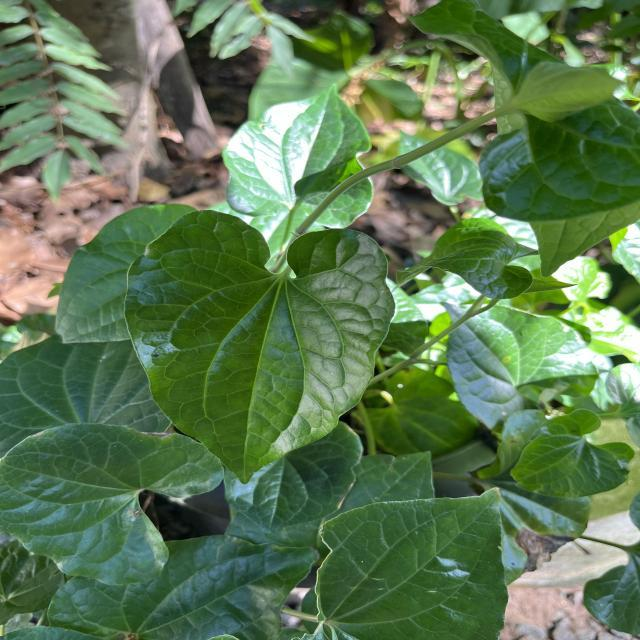Piper longum: (120, 207, 399, 488)
